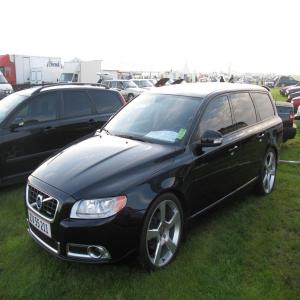Vehicle-registration-plate: (28, 208, 53, 238)
